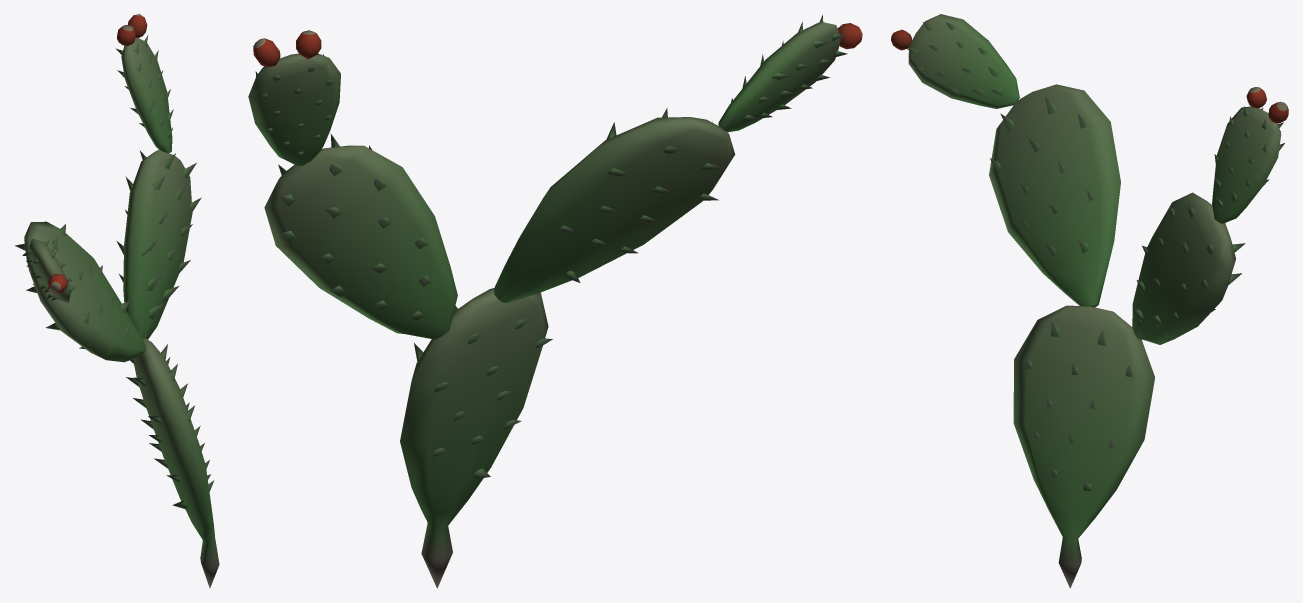
Rendered from plants-cacti-succulents-prickly-pear_v2.glb.
The picture shows the model from 3 angles, left to right: view 1: azimuth 30°, elevation 25°; view 2: azimuth 150°, elevation 25°; view 3: azimuth 270°, elevation 25°; orthographic projection. The views are drawn at different scales.
Visible parts, largest first — view 1: Prickly Pear_v2; view 2: Prickly Pear_v2; view 3: Prickly Pear_v2.
Boxes of the visible parts, left/top/right/bottom form: Prickly Pear_v2: left=15, top=14, right=219, bottom=588; Prickly Pear_v2: left=248, top=14, right=862, bottom=588; Prickly Pear_v2: left=891, top=14, right=1288, bottom=588.
Size of the model in its own units: 0.6415 by 1 by 0.7133.
